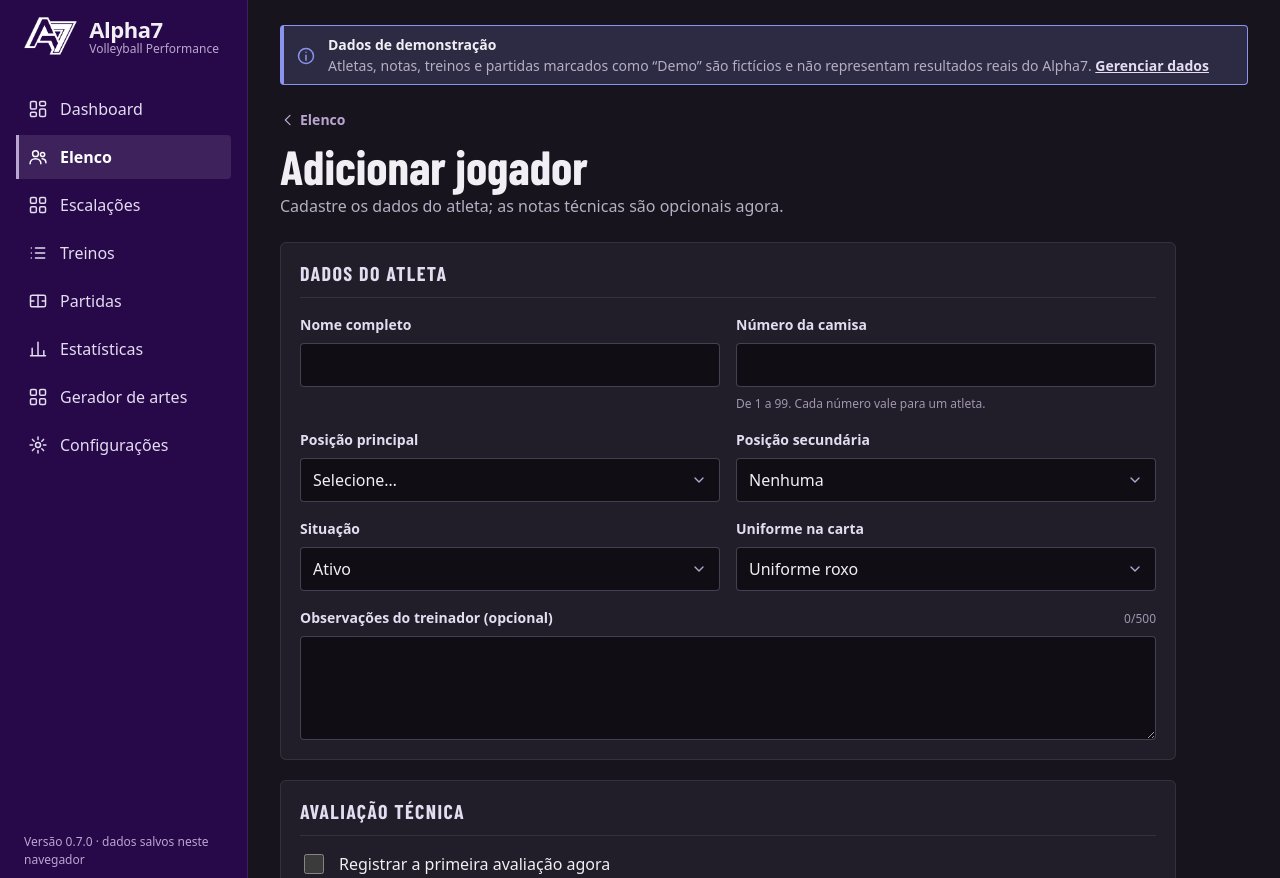
Test: Cadastro de jogador › rejeita número de camisa já usado e diz de quem é
Type "Novo Atleta" into the field labelled "Nome completo" at coordinates (510, 365), box [300,343,720,387]
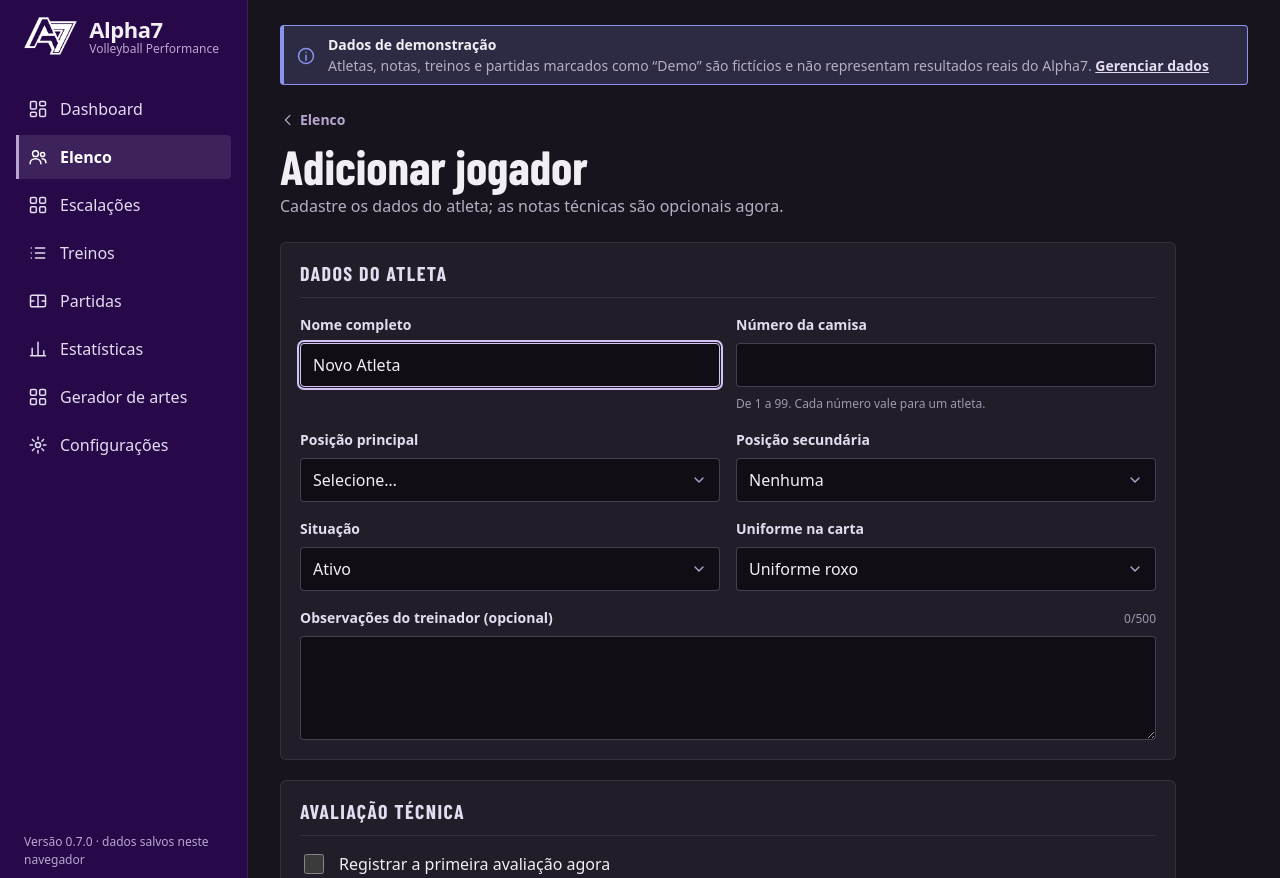
Type "8" into the field labelled "Número da camisa" at coordinates (946, 365), box [736,343,1156,387]
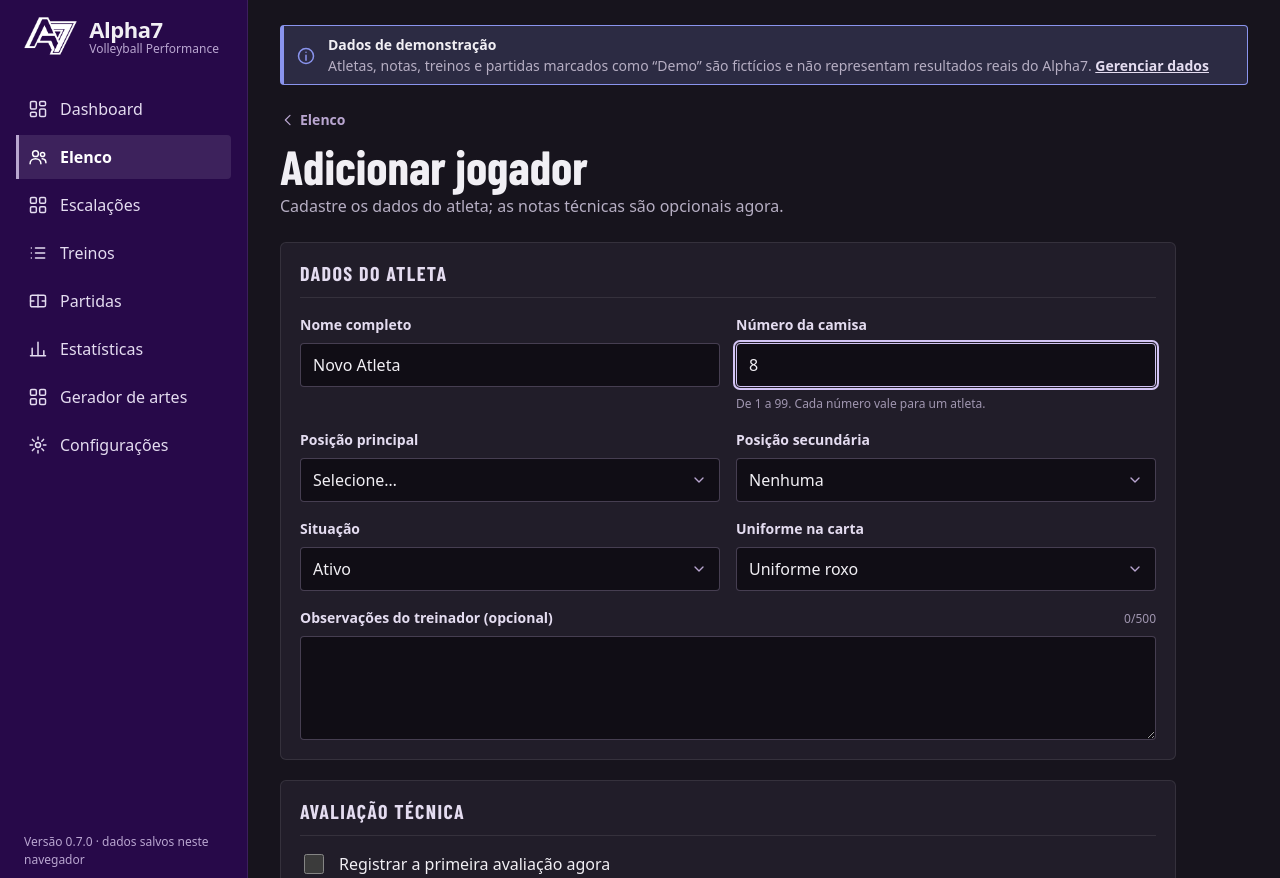
Select "Central" in the dropdown labelled "Posição principal" at coordinates (510, 480), box [300,458,720,502]
(page scrolled)
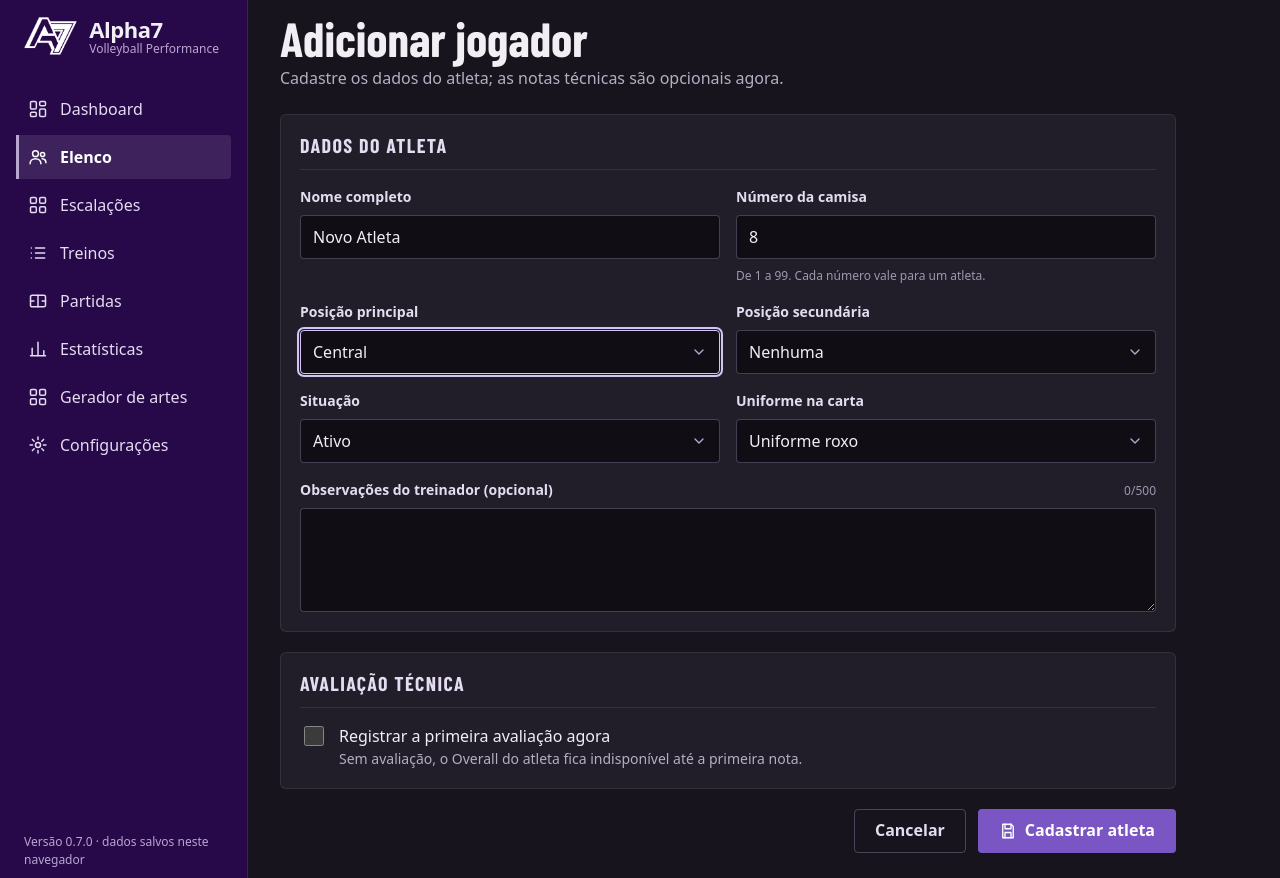
Click the button "Cadastrar atleta" at coordinates (1077, 831), box [978,809,1176,853]
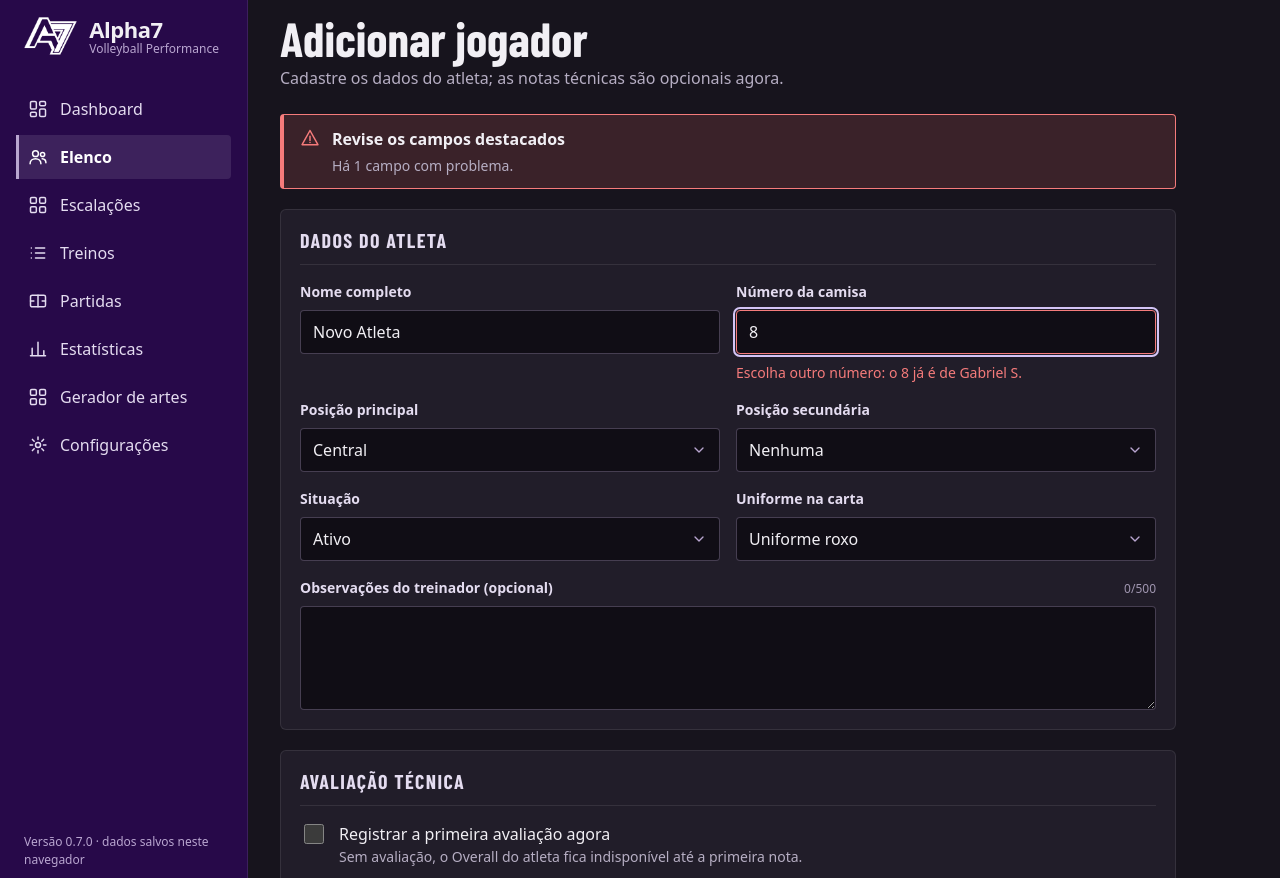
Expected: the text "Escolha outro número: o 8 já é de Gabriel S." is shown, [736,363,1022,382]
